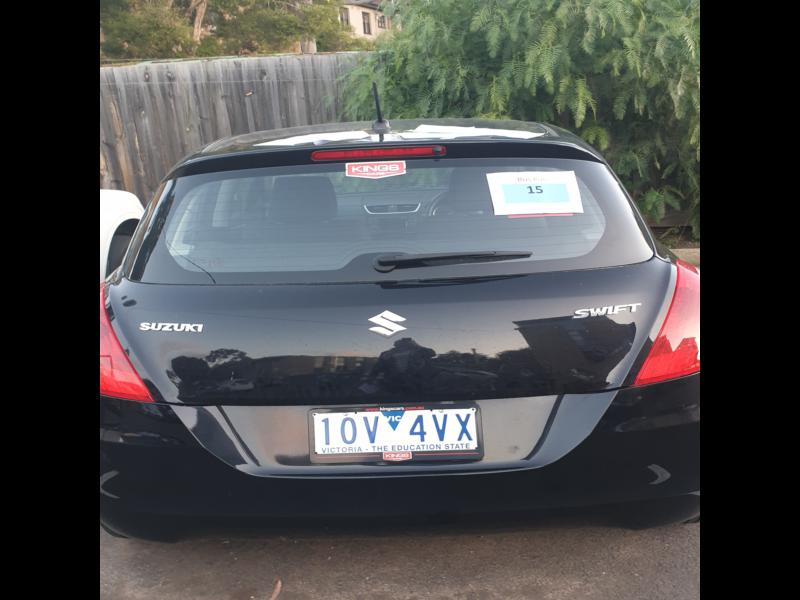BusRun: (506, 181, 569, 205)
PlateNo: (311, 409, 481, 453)
